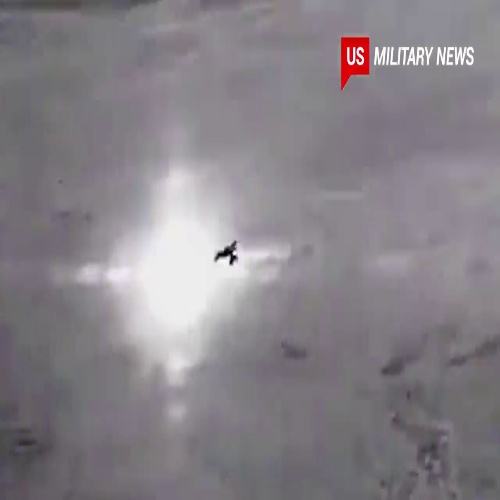uav: (214, 238, 240, 268)
